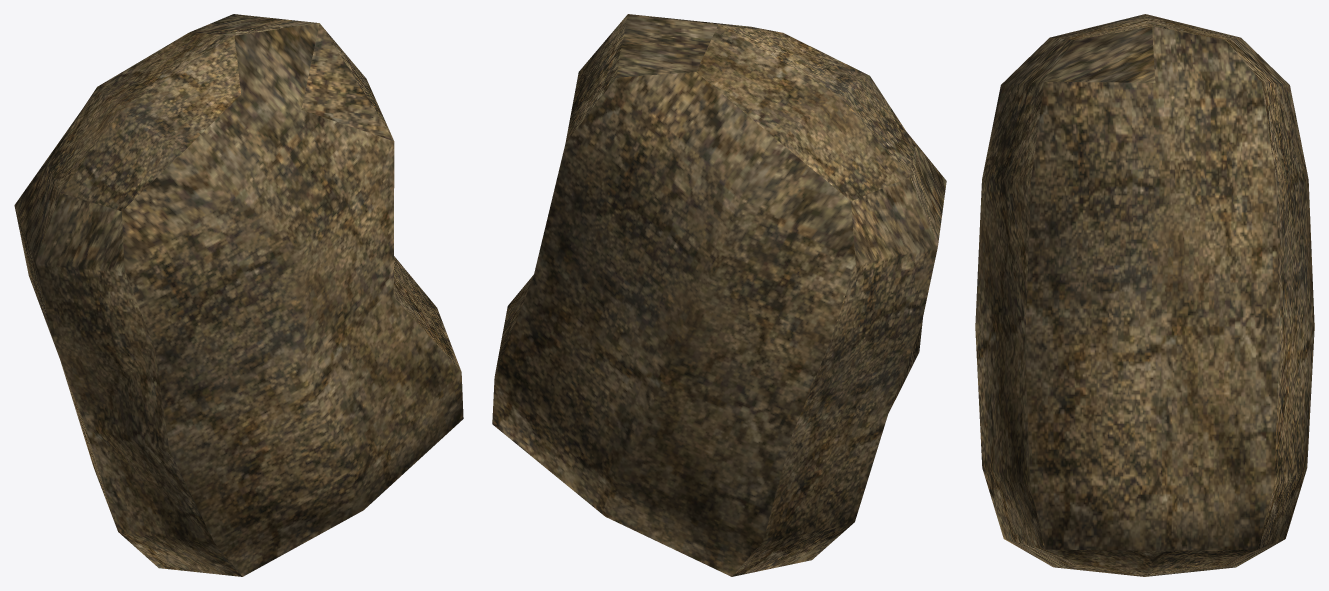
The model's file is CH09_SMAUG_PLAYSURFACE_LONELYMOUNTAIN_LM_PLAYSURFACE05.fbx.
3 renders of one model, left to right at view 1: azimuth 30°, elevation 25°; view 2: azimuth 150°, elevation 25°; view 3: azimuth 270°, elevation 25°, orthographic. The views are drawn at different scales.
Visible parts, largest first — view 1: CH09_SMAUG_PLAYSURFACE_LONELYMOUNTAIN_LM_PLAYSURFACE05; view 2: CH09_SMAUG_PLAYSURFACE_LONELYMOUNTAIN_LM_PLAYSURFACE05; view 3: CH09_SMAUG_PLAYSURFACE_LONELYMOUNTAIN_LM_PLAYSURFACE05.
Boxes of the visible parts, box(x1,y1,x2,y2) form: CH09_SMAUG_PLAYSURFACE_LONELYMOUNTAIN_LM_PLAYSURFACE05: box(14, 14, 463, 576); CH09_SMAUG_PLAYSURFACE_LONELYMOUNTAIN_LM_PLAYSURFACE05: box(492, 14, 946, 576); CH09_SMAUG_PLAYSURFACE_LONELYMOUNTAIN_LM_PLAYSURFACE05: box(975, 14, 1314, 576).
Bounding box in the file's own units: 10695 × 12486 × 6932.
1 material, 1 textured.
